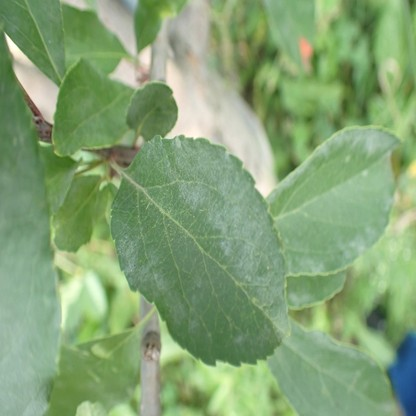powder: (138, 136, 291, 345), (265, 123, 405, 310), (0, 138, 61, 416), (270, 321, 395, 416), (67, 62, 175, 145), (118, 235, 200, 333), (0, 1, 59, 65), (232, 333, 244, 346)
